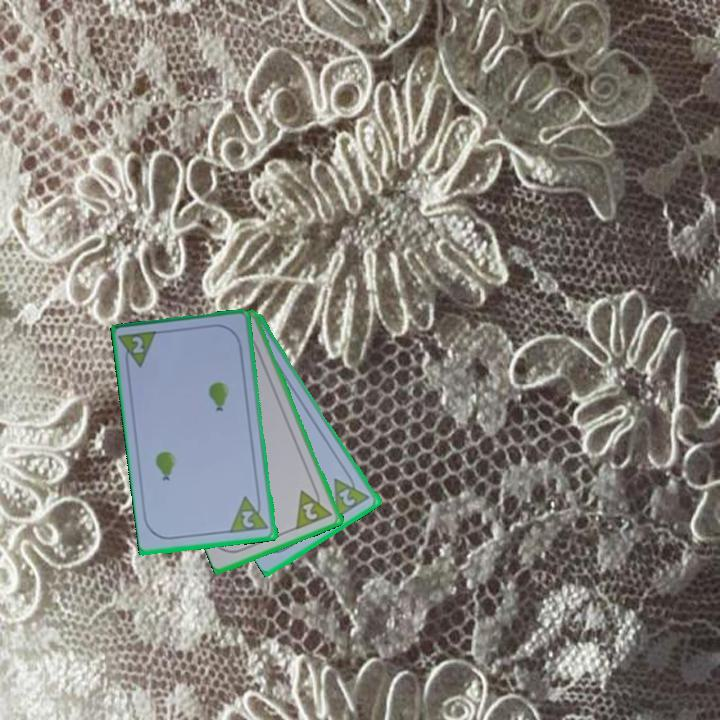2p: (330, 468, 373, 520), (293, 482, 336, 532), (227, 492, 272, 536), (128, 333, 147, 357)
